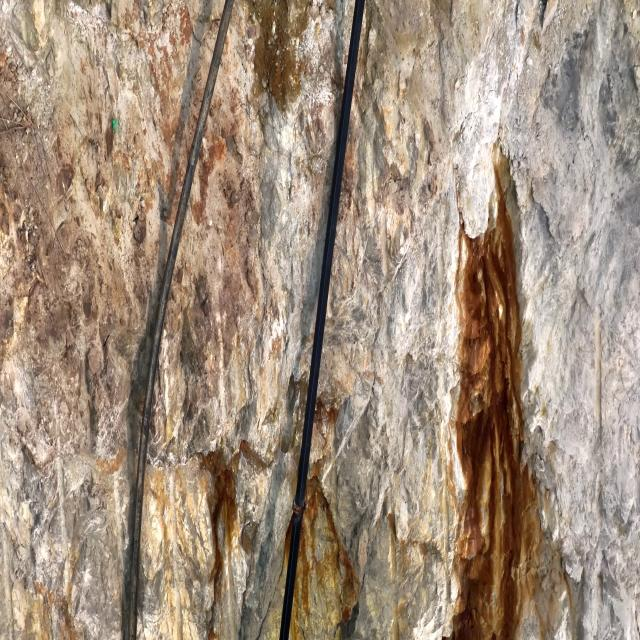leak: (298, 503, 307, 561)
